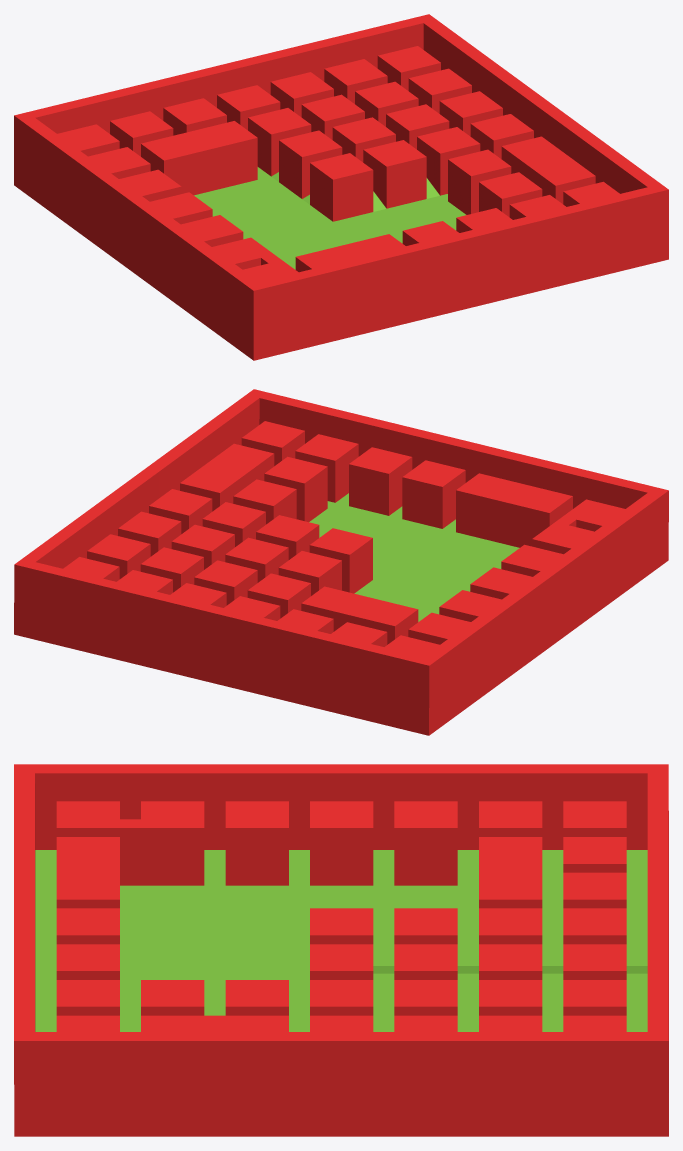
File: City.fbx
3 renders of one model, top to bottom at view 1: azimuth 30°, elevation 25°; view 2: azimuth 150°, elevation 25°; view 3: azimuth 270°, elevation 25°, orthographic. The views are drawn at different scales.
Visible parts, largest first — view 1: City hitbox; view 2: City hitbox; view 3: City hitbox.
Boxes of the visible parts, left/top/right/bottom form: City hitbox: left=14, top=14, right=668, bottom=360; City hitbox: left=14, top=389, right=668, bottom=735; City hitbox: left=14, top=764, right=668, bottom=1136.
Size of the model in its own units: 43424 by 7000 by 43424.
Materials: 1 (1 with a texture image).
